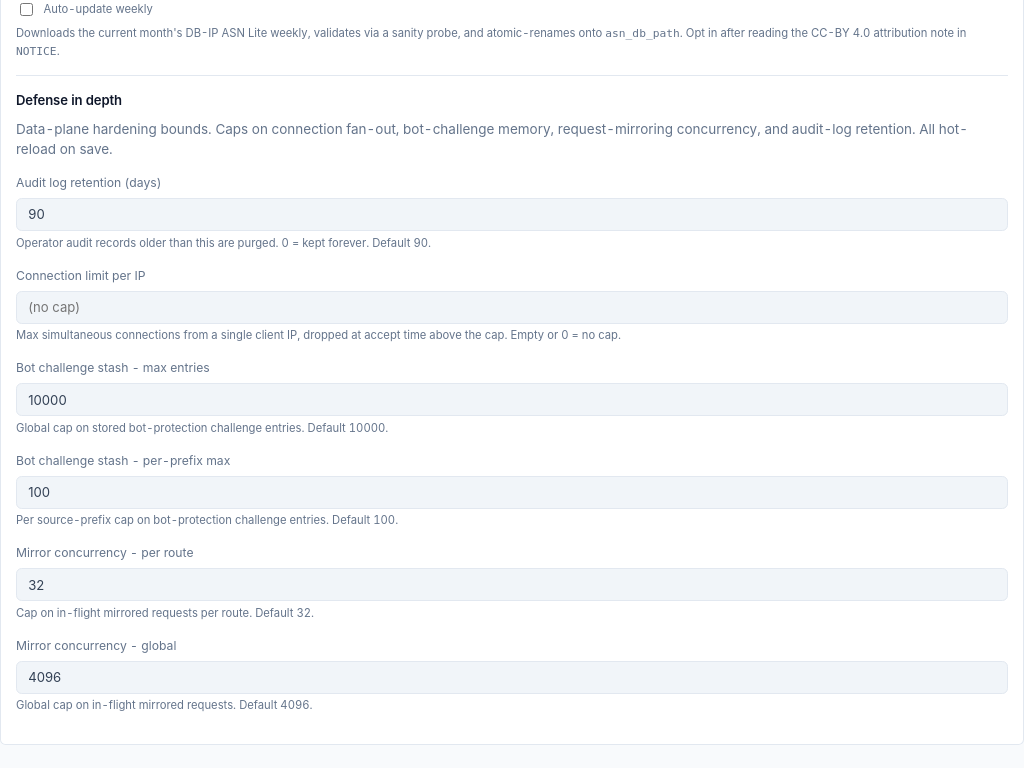
Test case: NetworkTab defense-in-depth bounds › takes its bounds from the server schema
This screenshot has width=1024, height=768.
(page scrolled)
Step 1. Replace the text in the number field labelled "Bot challenge stash - max entries" with "51" → (512, 400), box [16,383,1008,416]
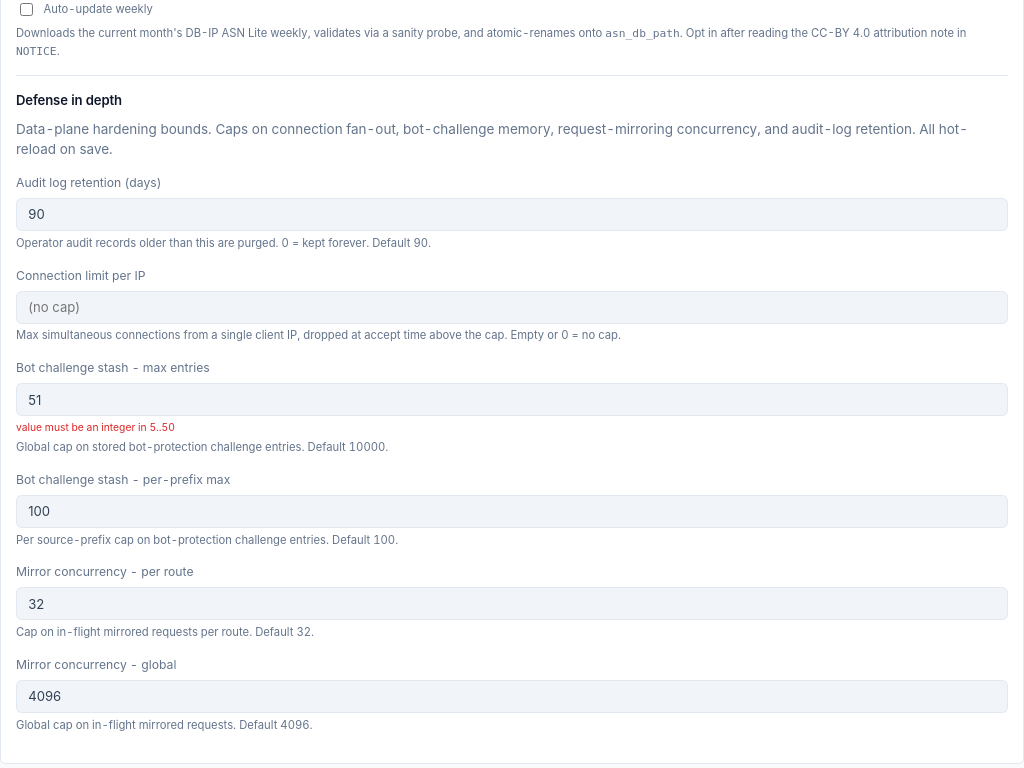
Expected: the message shows "5..50", [16,421,175,433]
Step 2. Replace the text in the number field labelled "Bot challenge stash - max entries" with "50" → (512, 400), box [16,383,1008,416]
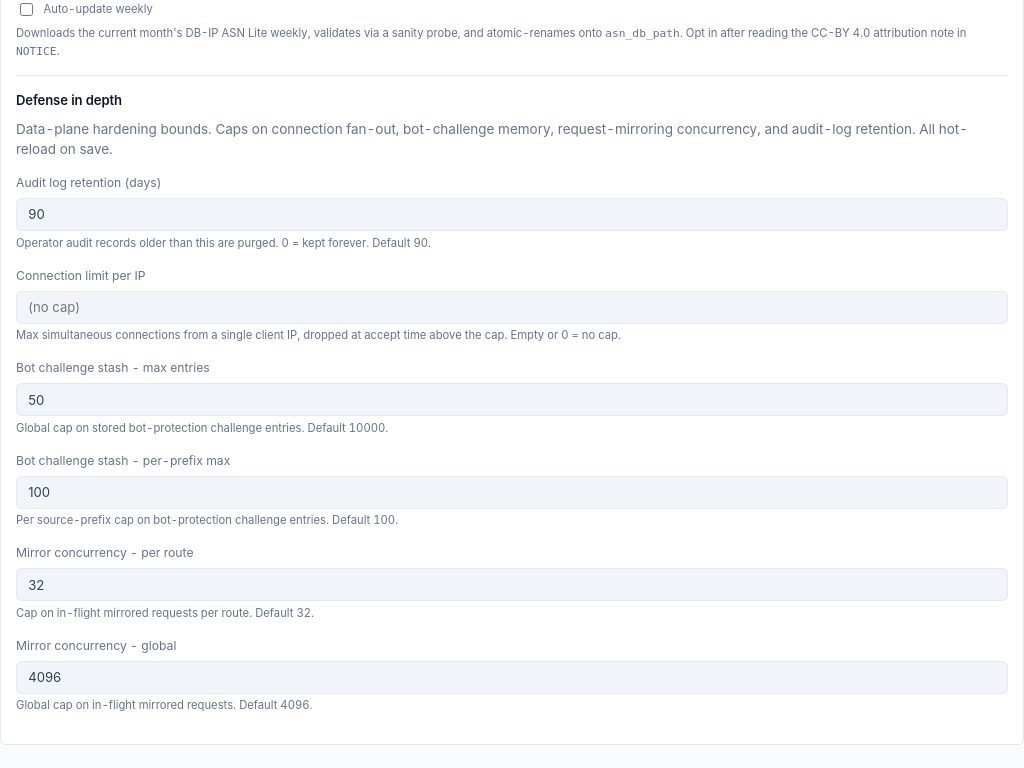
Expected: no messages are shown
